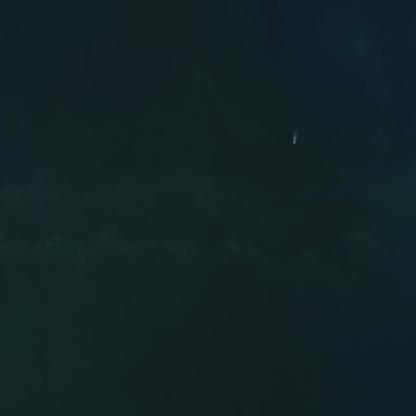ship: (287, 134, 296, 146)
